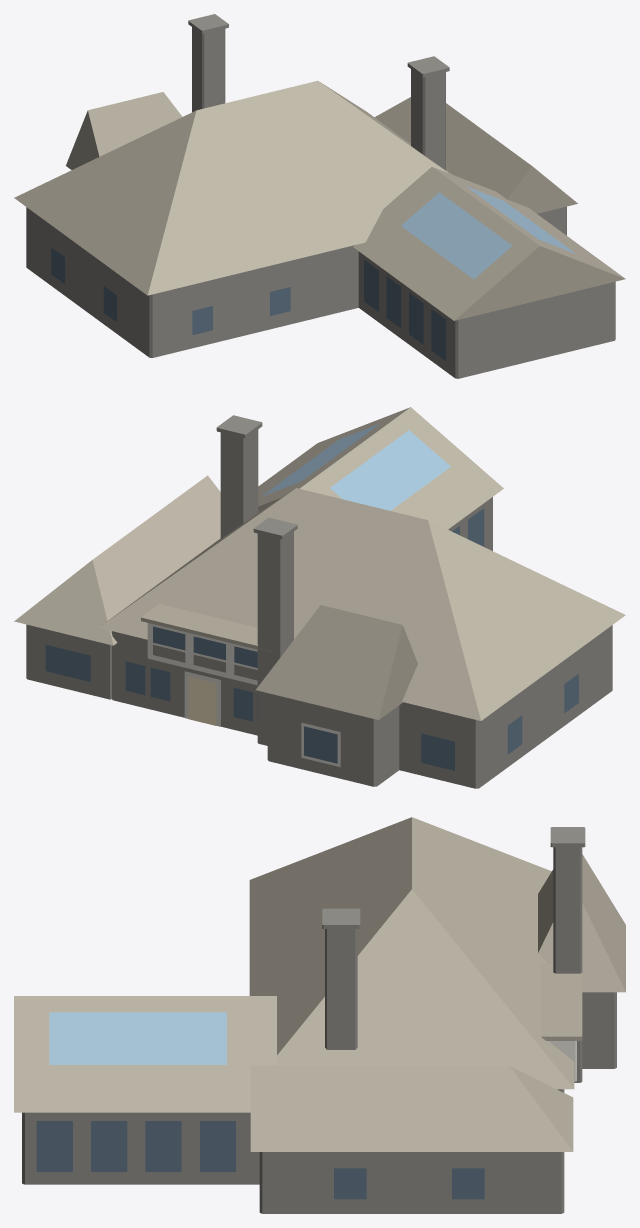
The model's file is pdx-multnomah-falls-lodge.glb.
3 views of the same model, one above another, from view 1: azimuth 30°, elevation 25°; view 2: azimuth 150°, elevation 25°; view 3: azimuth 270°, elevation 25° (orthographic). The views are drawn at different scales.
Parts seen in each view (by area): view 1: Multnomah Falls Lodge; view 2: Multnomah Falls Lodge; view 3: Multnomah Falls Lodge.
Boxes of the visible parts, x1,y1,x2,y2 form: Multnomah Falls Lodge: (14,14,625,378); Multnomah Falls Lodge: (14,407,625,788); Multnomah Falls Lodge: (14,817,625,1213).
Size of the model in its own units: 33.35 by 14.65 by 33.75.
